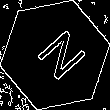N_SW: (24, 23, 86, 87)
